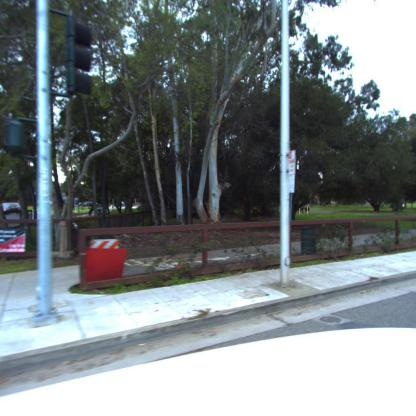car: (3, 202, 22, 214)
